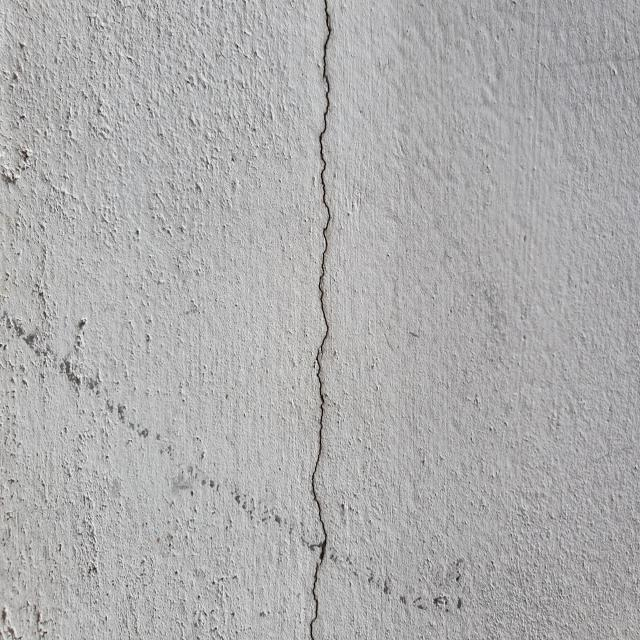SurfaceCrack: (256, 1, 378, 640)
